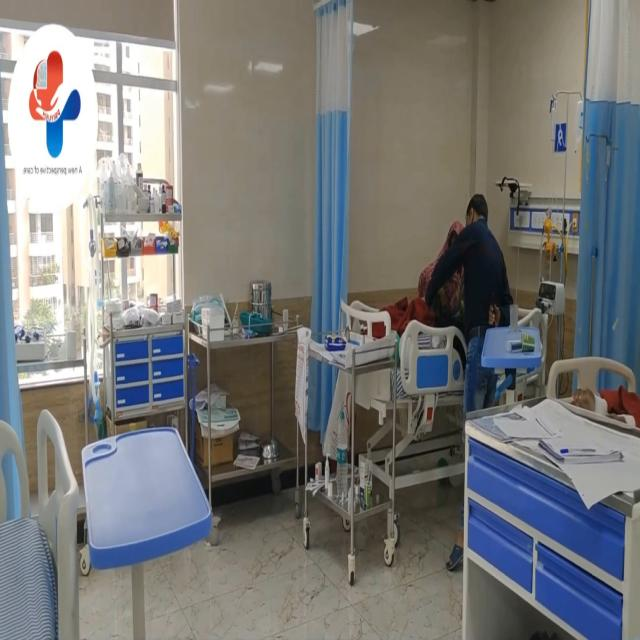Family-Member: (460, 194, 508, 584)
Patient: (360, 208, 468, 352)
